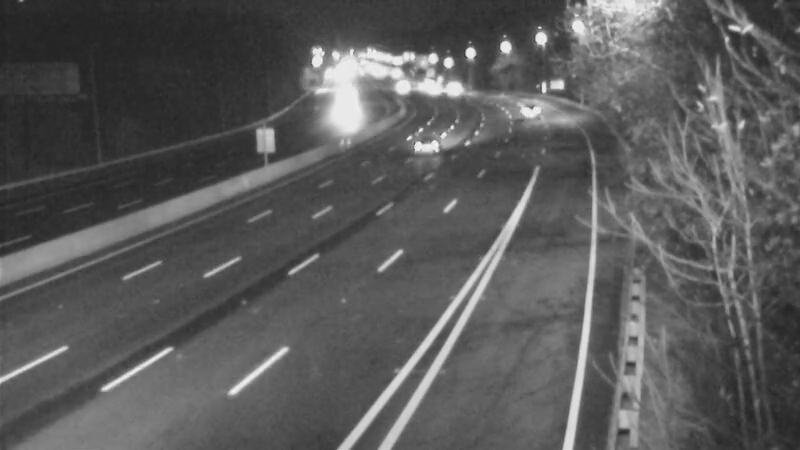vehicle: (432, 60, 482, 110), (379, 63, 429, 113), (403, 63, 453, 113), (500, 81, 550, 131), (400, 110, 450, 160)
